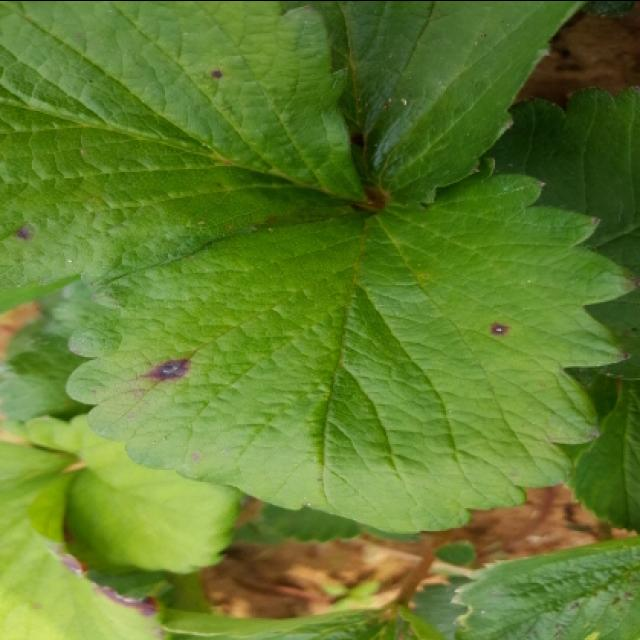Leaf Spot: (66, 172, 638, 533), (0, 2, 374, 313), (313, 2, 587, 205)
